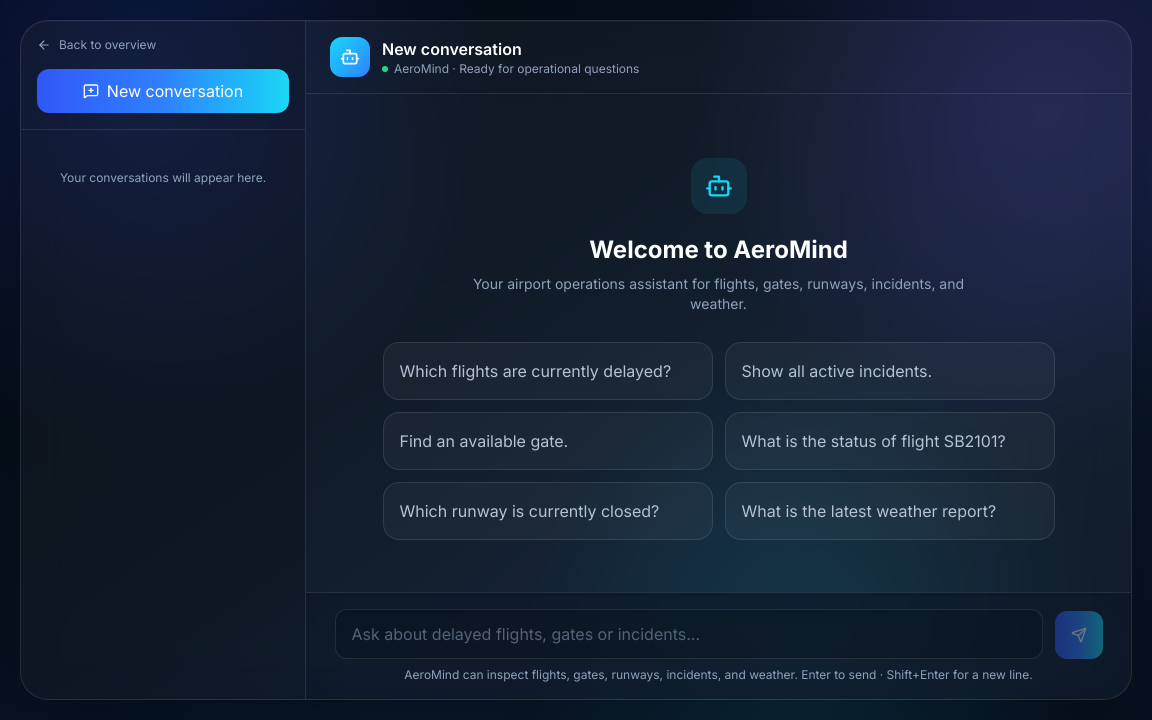
Test: ChatPage Drogon integration › shows the AI provider message for provider gateway errors
Type "status" into the text box named "Message AeroMind" at (688, 634), box 334,609 -> 1042,659
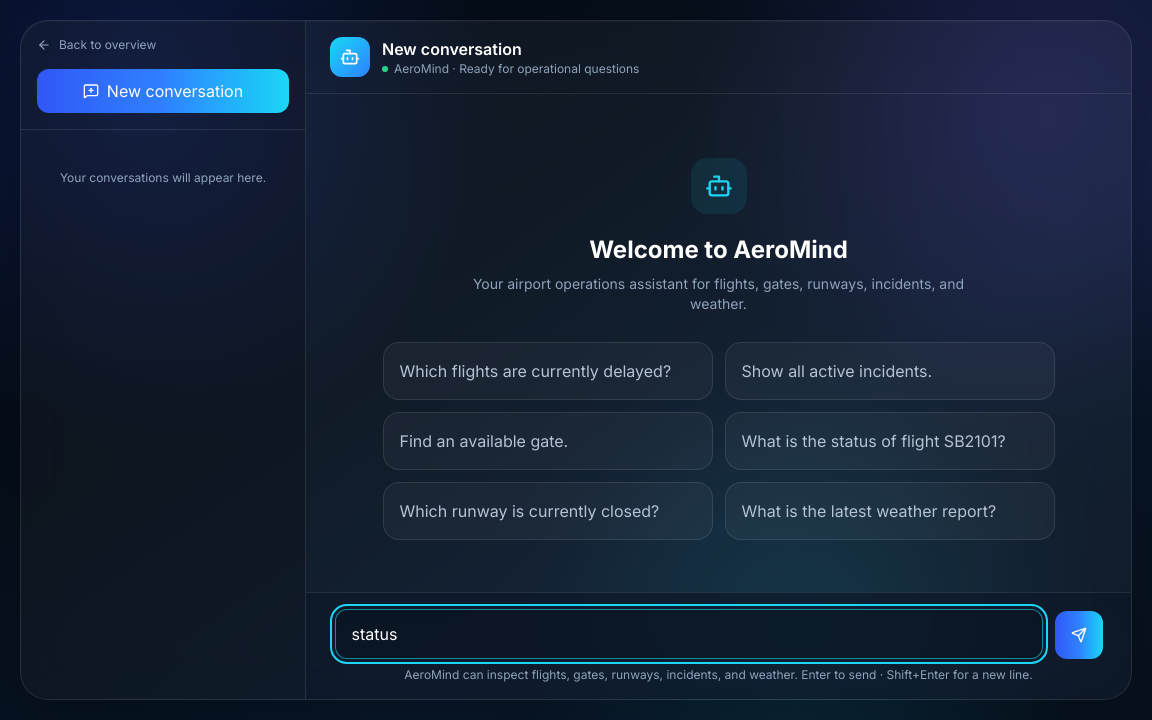
Click the button named "Send message" at (1078, 635), box 1054,611 -> 1102,659
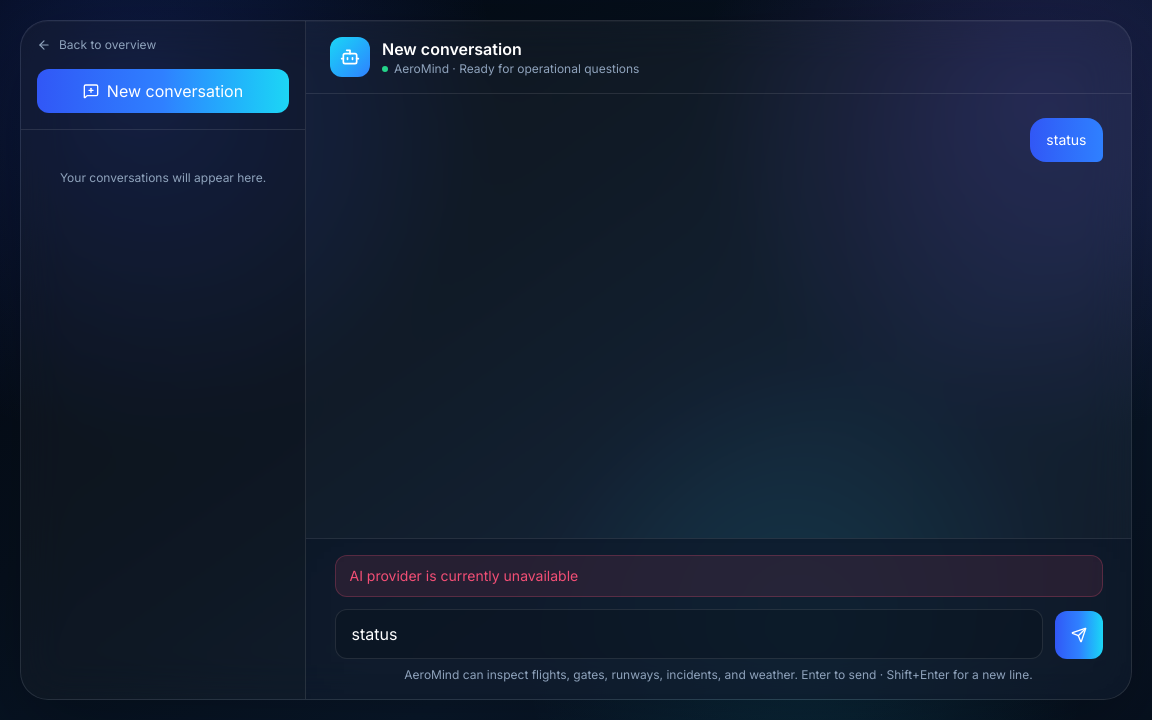
Result: the message reads "AI provider is currently unavailable" at 350,567 -> 578,584
